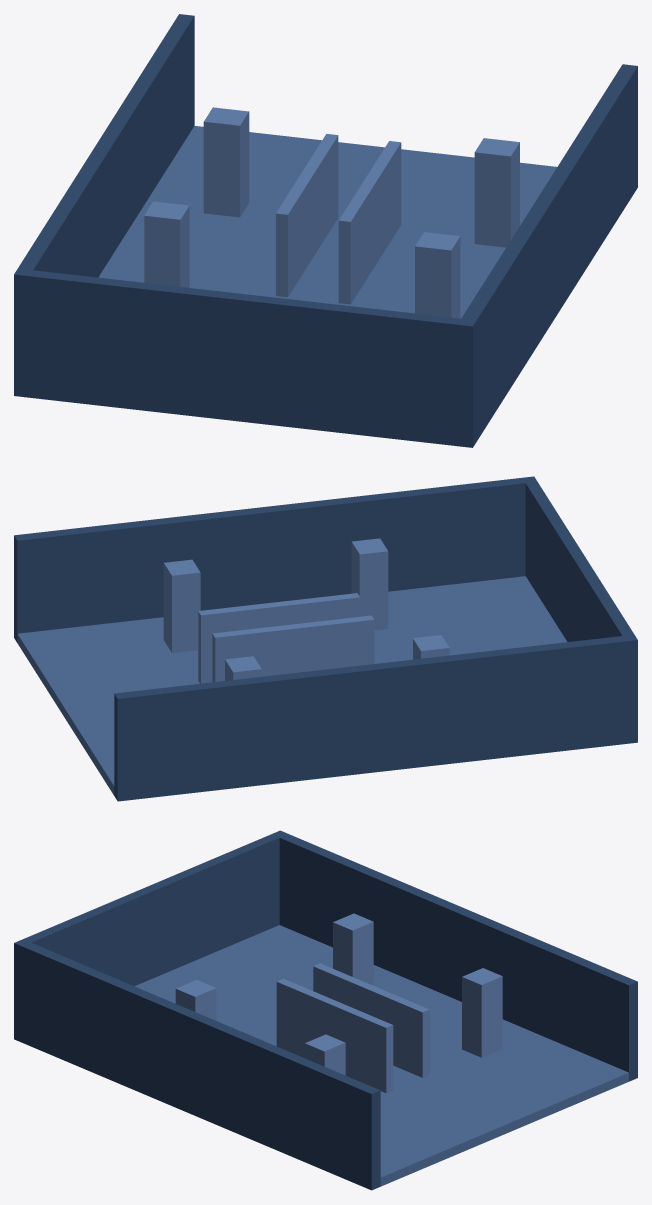
File: arena_04.glb
The picture shows the model from 3 angles, top to bottom: view 1: azimuth 30°, elevation 25°; view 2: azimuth 150°, elevation 25°; view 3: azimuth 270°, elevation 25°; orthographic projection. The views are drawn at different scales.
Parts seen in each view (by area): view 1: arena; view 2: arena; view 3: arena.
Part boxes in pixels (x1=…): arena: x1=14, y1=14, x2=637, y2=447; arena: x1=14, y1=476, x2=637, y2=801; arena: x1=14, y1=830, x2=637, y2=1190.
Size of the model in its own units: 15.56 by 2.65 by 15.56.
